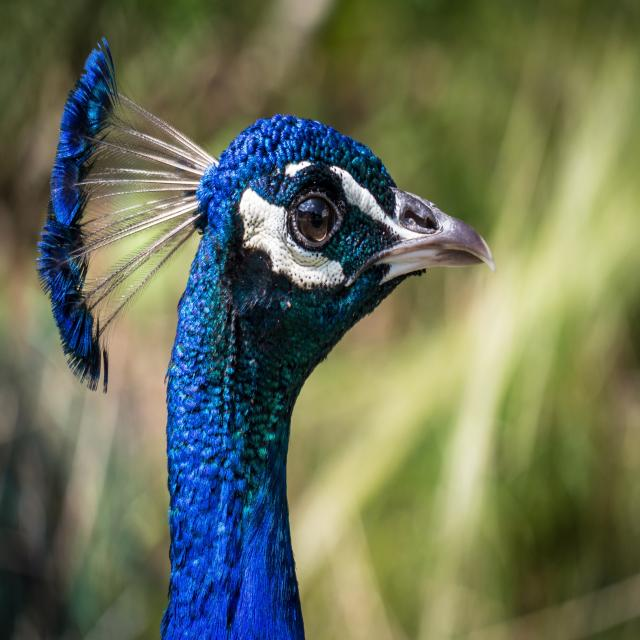peacock: (37, 25, 522, 640)
